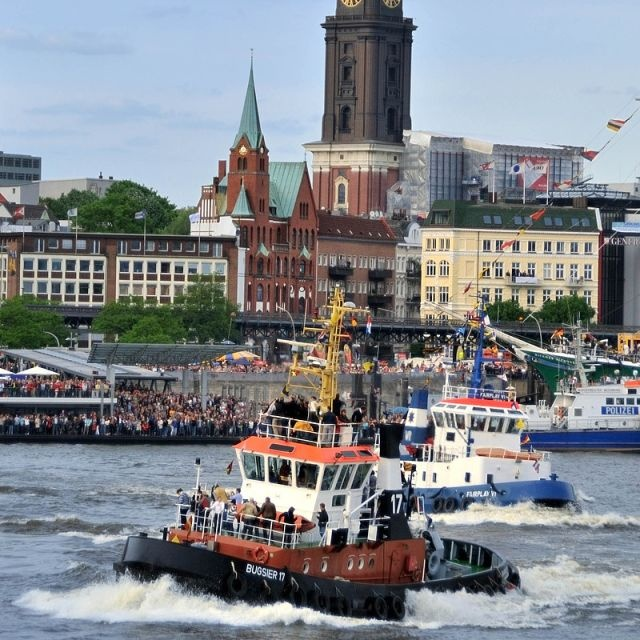otherboat: (112, 294, 514, 619), (346, 313, 587, 520), (508, 356, 640, 446)
